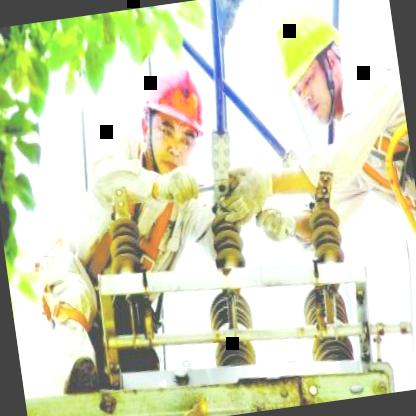helmet: (261, 0, 358, 132), (127, 52, 220, 181)
